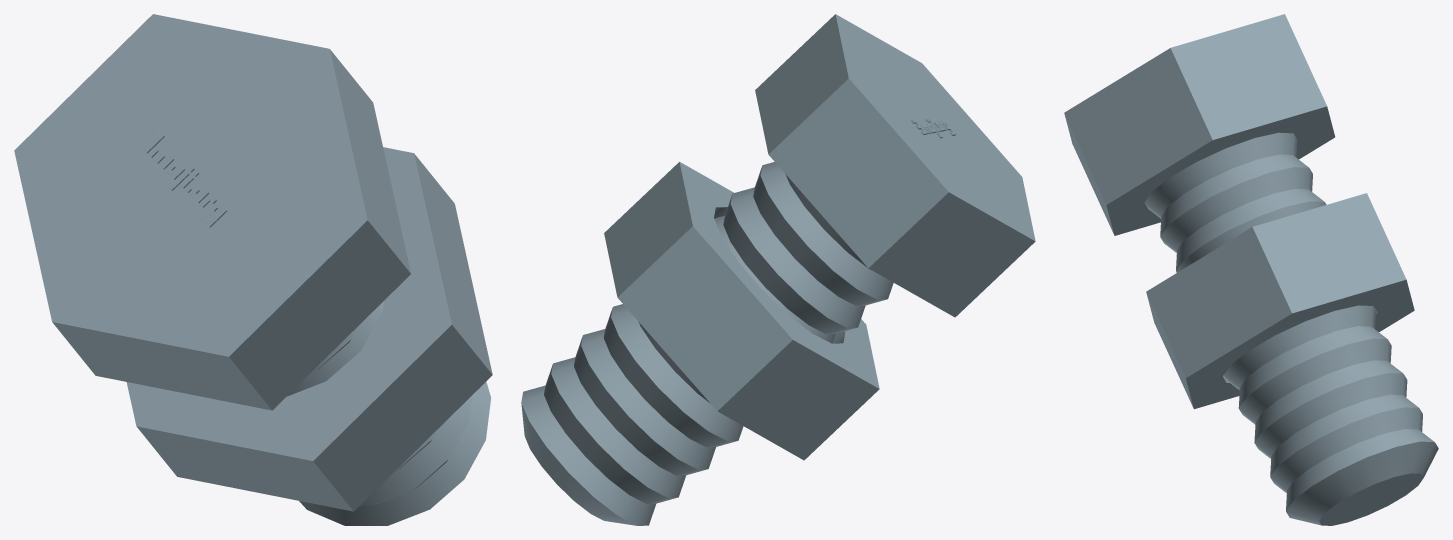
The model's file is nut_and_bolt.fbx.
3 renders of one model, left to right at view 1: azimuth 30°, elevation 25°; view 2: azimuth 150°, elevation 25°; view 3: azimuth 270°, elevation 25°, orthographic. The views are drawn at different scales.
Visible parts, largest first — view 1: Circle.2589; view 2: Circle.2589; view 3: Circle.2589.
Part boxes in pixels (left/top/right/bottom): Circle.2589: left=14, top=14, right=492, bottom=525; Circle.2589: left=521, top=14, right=1035, bottom=525; Circle.2589: left=1064, top=14, right=1438, bottom=525.
Bounding box in the file's own units: 189 × 200 × 161.
Materials: 1 (1 with a texture image).
